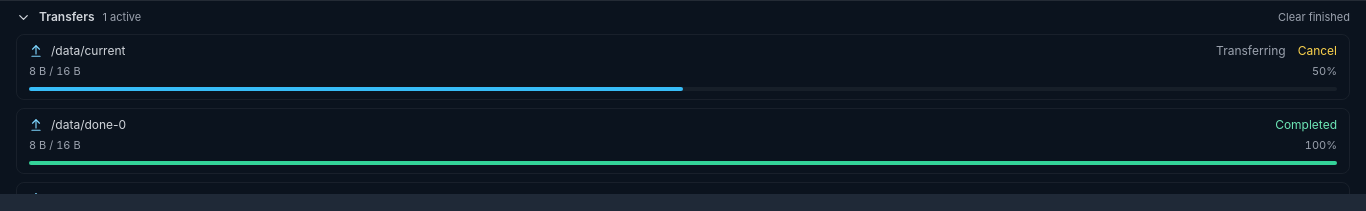
Test case: Transfer drawer › keeps active jobs visible ahead of history and only clears finished entries
Later steps or results of the test are not shown.
Click the button "Clear finished".
click(1314, 17)  # box [1278, 9, 1350, 26]
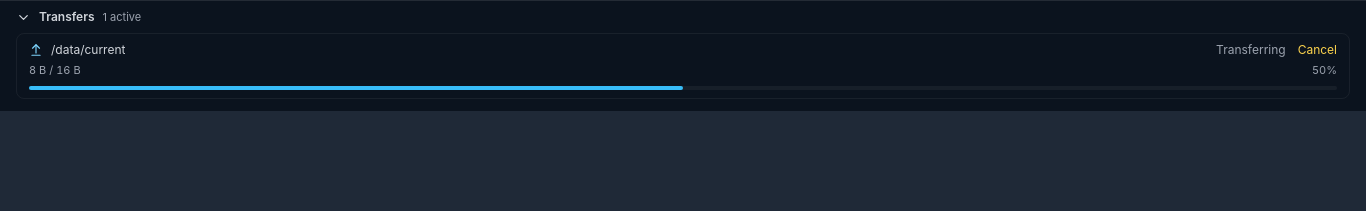
Expected: the text "/data/current" is shown, [51, 42, 126, 58]
Expected: the text "/data/done-0" is gone
Click the button "Transfers 1 active".
click(79, 17)  # box [16, 9, 141, 25]
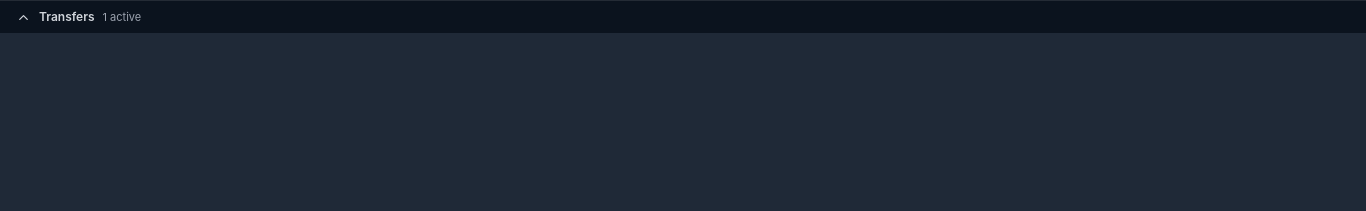
Expected: the progress indicator is gone
